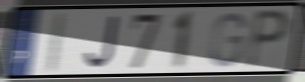1: (172, 8, 198, 73)
7: (129, 12, 162, 71)
G: (207, 10, 249, 69)
I: (43, 10, 69, 75)
J: (84, 14, 121, 70)
P: (244, 8, 293, 72)
